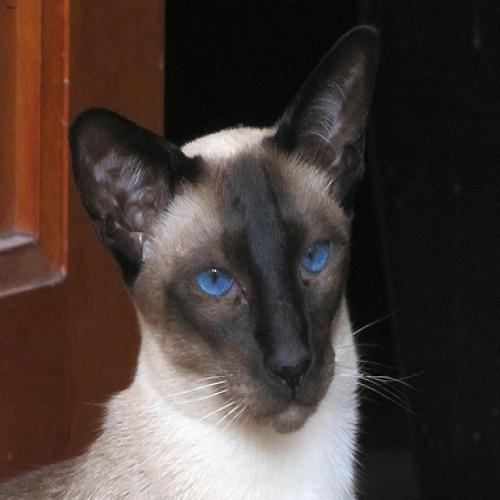siamese: (48, 2, 415, 451)
